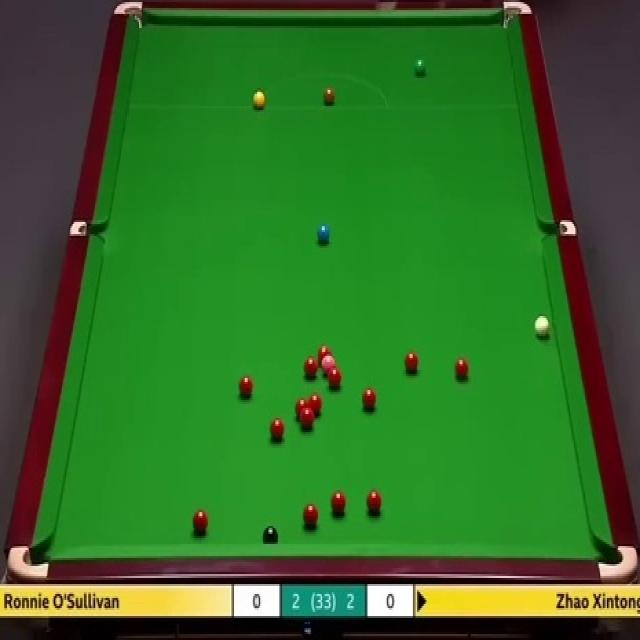black-ball: (262, 526, 278, 542)
blue-ball: (316, 223, 329, 244)
brown-ball: (322, 87, 336, 106)
green-ball: (415, 56, 426, 75)
pink-ball: (321, 353, 336, 377)
red-ball: (330, 491, 347, 517), (237, 373, 254, 398), (192, 508, 209, 533), (300, 406, 315, 434), (268, 416, 284, 442), (302, 502, 318, 528), (306, 392, 323, 416), (362, 386, 377, 410), (454, 356, 469, 380), (304, 356, 318, 381), (404, 352, 420, 372), (367, 491, 382, 512), (296, 398, 309, 421), (328, 369, 342, 388)
white-ball: (535, 315, 549, 337)
yellow-ball: (250, 90, 266, 110)
